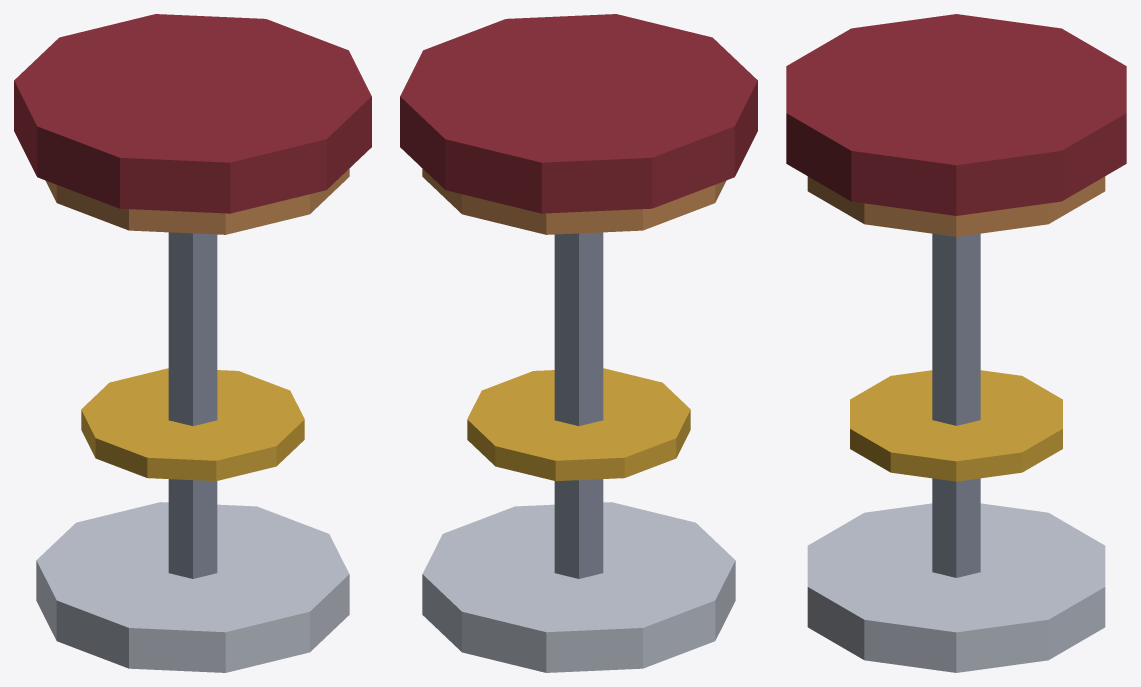
File: stool.glb
3 views of the same model, side by side, from view 1: azimuth 30°, elevation 25°; view 2: azimuth 150°, elevation 25°; view 3: azimuth 270°, elevation 25° (orthographic).
Parts seen in each view (by area): view 1: stool; view 2: stool; view 3: stool.
Part boxes in pixels (x1,y1,x2,y2): stool: (14,14,371,672); stool: (400,14,757,672); stool: (786,14,1126,672).
Bounding box in the file's own units: 0.32 × 0.51 × 0.3043.
1 material, 1 textured.
